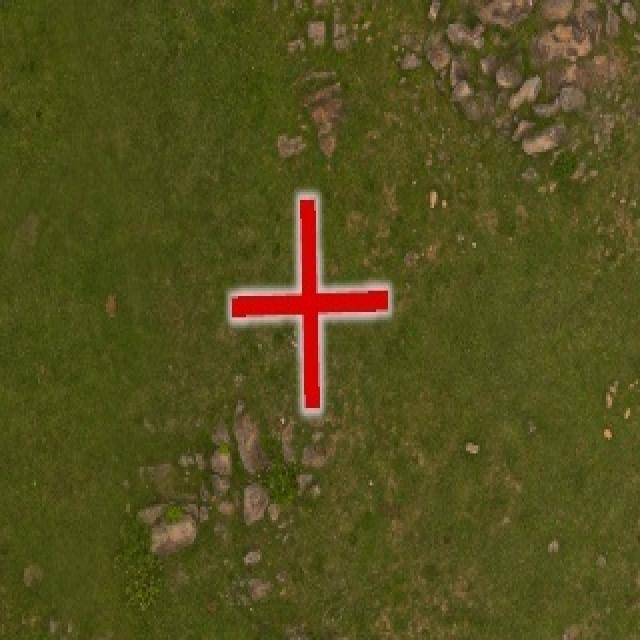x_marker: (231, 196, 387, 409)
